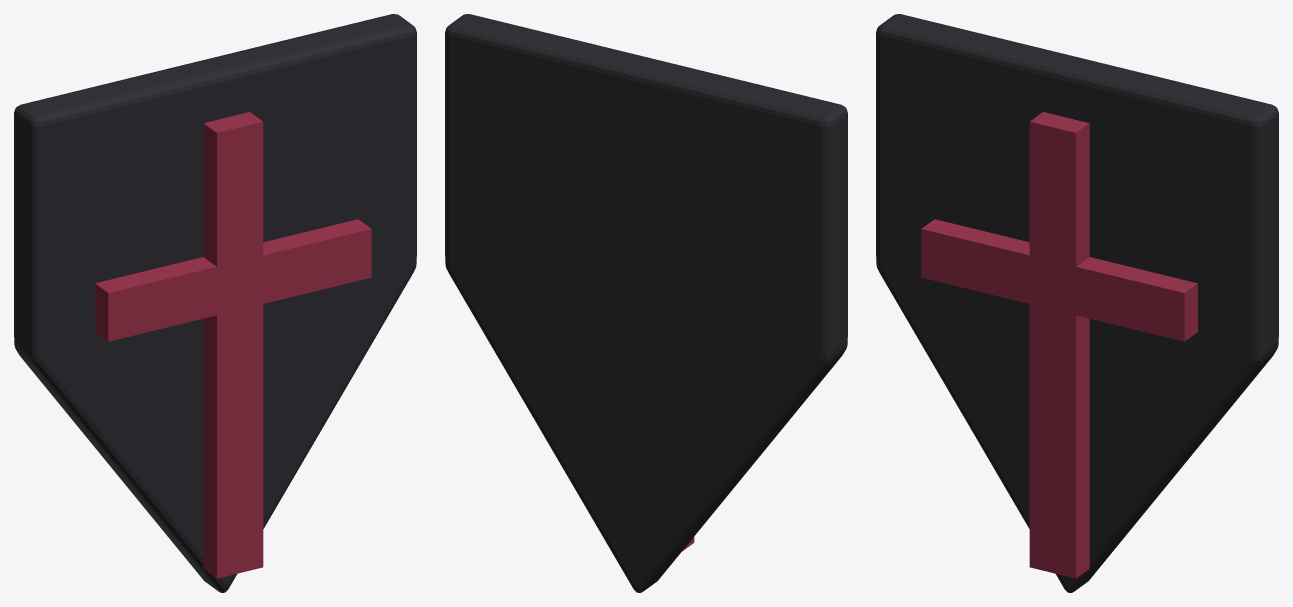
File: wall_gear_shield_heater.glb
3 renders of one model, left to right at view 1: azimuth 30°, elevation 25°; view 2: azimuth 150°, elevation 25°; view 3: azimuth 330°, elevation 25°, orthographic.
Parts seen in each view (by area): view 1: GD_wall_gear_shield_heater__m0, GD_wall_gear_shield_heater__m1; view 2: GD_wall_gear_shield_heater__m0; view 3: GD_wall_gear_shield_heater__m0, GD_wall_gear_shield_heater__m1.
Part boxes in pixels (box(x1,y1,x2,y2)): GD_wall_gear_shield_heater__m0: box(14, 14, 416, 592); GD_wall_gear_shield_heater__m1: box(95, 112, 371, 578); GD_wall_gear_shield_heater__m0: box(445, 14, 847, 592); GD_wall_gear_shield_heater__m0: box(876, 14, 1278, 592); GD_wall_gear_shield_heater__m1: box(921, 112, 1197, 578).
Size of the model in its own units: 0.5 by 0.645 by 0.08.
